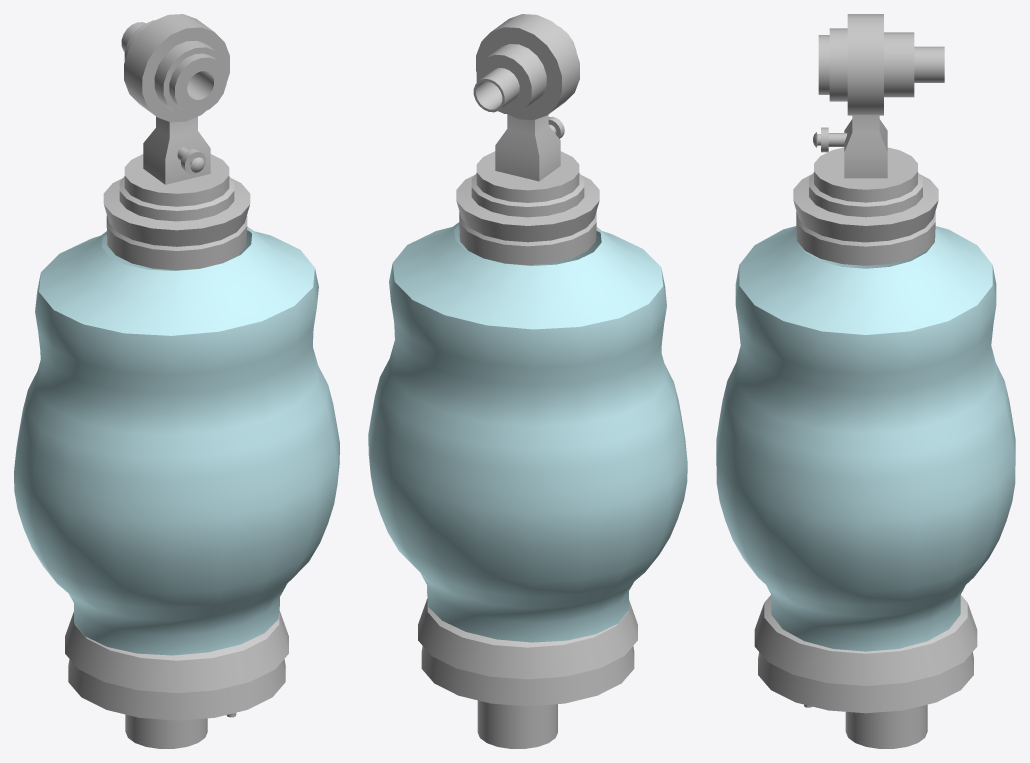
Rendered from bagv.fbx.
The picture shows the model from 3 angles, left to right: view 1: azimuth 30°, elevation 25°; view 2: azimuth 150°, elevation 25°; view 3: azimuth 270°, elevation 25°; orthographic projection. The views are drawn at different scales.
Visible parts, largest first — view 1: SqueezablePart, Bag; view 2: SqueezablePart, Bag; view 3: SqueezablePart, Bag.
Part boxes in pixels (left/top/right/bottom): SqueezablePart: left=14, top=226, right=339, bottom=655; Bag: left=65, top=14, right=288, bottom=748; SqueezablePart: left=368, top=222, right=687, bottom=642; Bag: left=418, top=14, right=637, bottom=748; SqueezablePart: left=716, top=226, right=1015, bottom=651; Bag: left=754, top=14, right=977, bottom=748.
Bounding box in the file's own units: 73.86 × 174 × 66.12.
